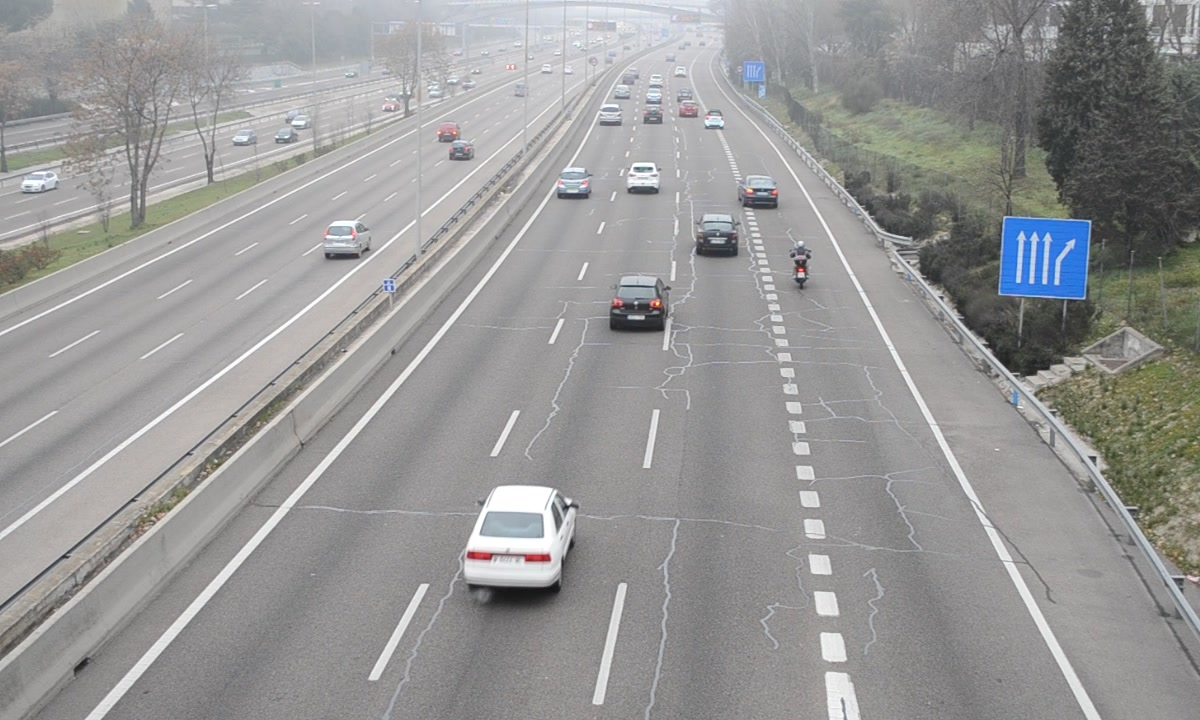car: (463, 485, 578, 589), (609, 277, 670, 330), (694, 214, 741, 259), (739, 175, 780, 211), (556, 166, 593, 200), (628, 162, 662, 192), (600, 101, 622, 126)
motorcycle: (790, 239, 813, 292)
